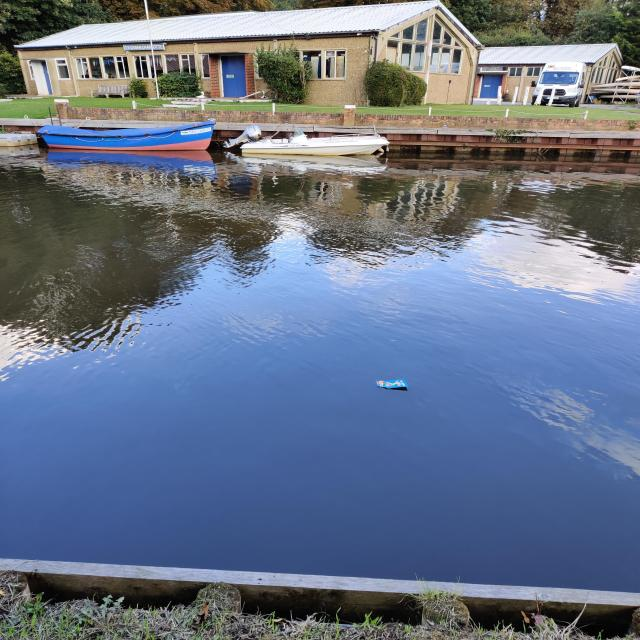litter: (373, 376, 415, 393)
